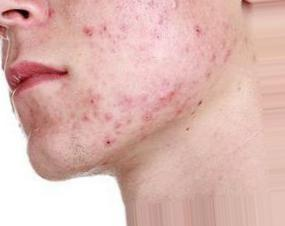Acne: (71, 94, 108, 126), (148, 83, 176, 116), (80, 23, 118, 46), (183, 26, 212, 42)
